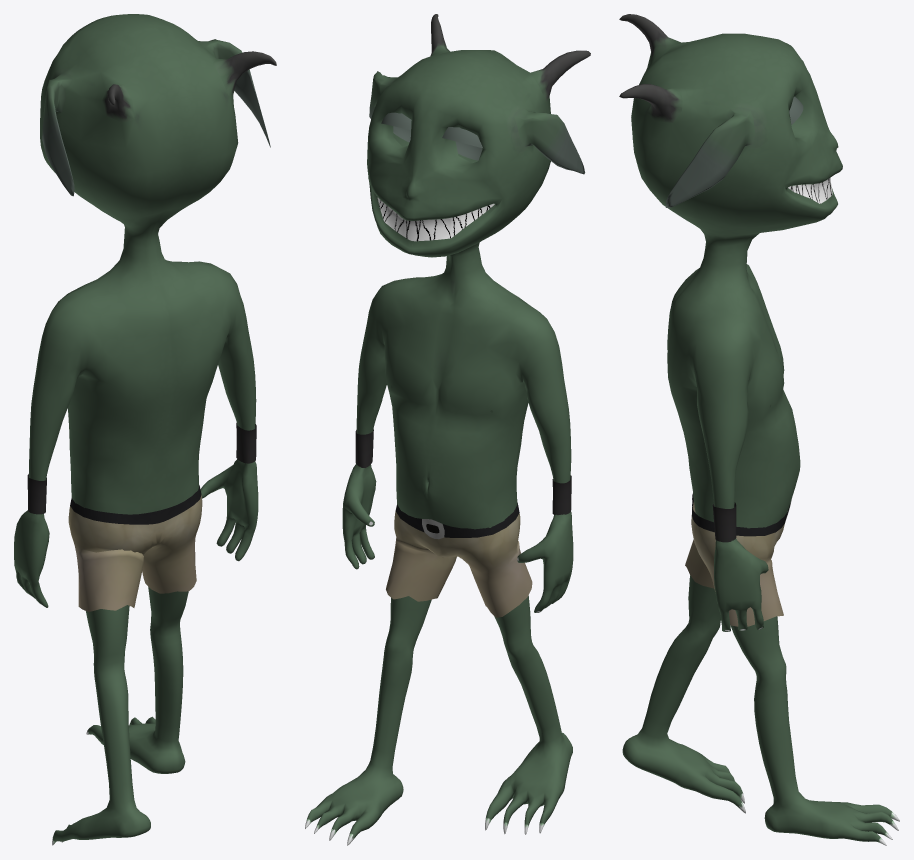
File: lwjglcharactergoblin10_000003.obj
The picture shows the model from 3 angles, left to right: view 1: azimuth 30°, elevation 25°; view 2: azimuth 150°, elevation 25°; view 3: azimuth 270°, elevation 25°; orthographic projection. The views are drawn at different scales.
Parts seen in each view (by area): view 1: Cube.002; view 2: Cube.002; view 3: Cube.002.
Boxes of the visible parts, x1,y1,x2,y2 form: Cube.002: (14,14,276,845); Cube.002: (305,14,590,845); Cube.002: (619,14,899,845).
Size of the model in its own units: 1.18 by 3.92 by 1.27.
